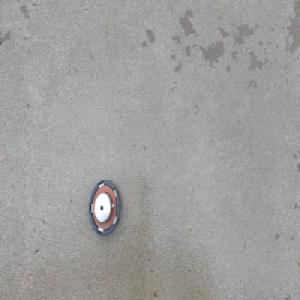FuelCap: (87, 176, 120, 237)
